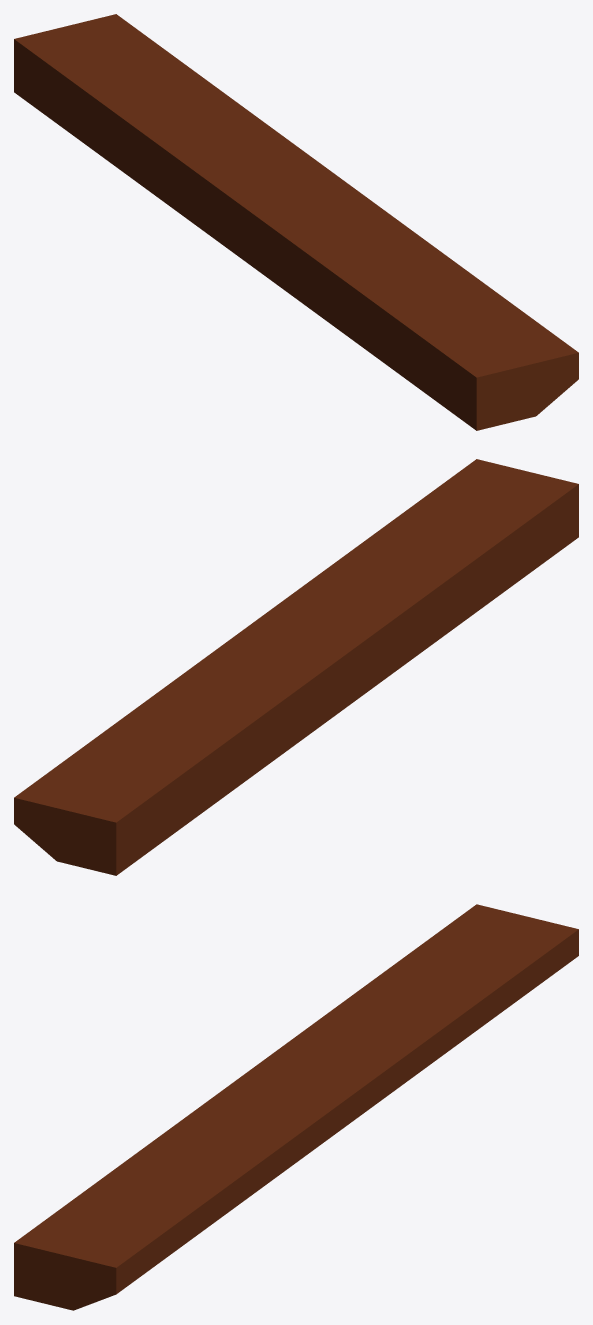
The model's file is ShelfLarge.fbx.
The picture shows the model from 3 angles, top to bottom: view 1: azimuth 30°, elevation 25°; view 2: azimuth 150°, elevation 25°; view 3: azimuth 330°, elevation 25°; orthographic projection.
Parts seen in each view (by area): view 1: Plane.021; view 2: Plane.021; view 3: Plane.021.
Part boxes in pixels (x1=…): Plane.021: x1=14, y1=14, x2=578, y2=430; Plane.021: x1=14, y1=459, x2=578, y2=875; Plane.021: x1=14, y1=904, x2=578, y2=1310.
Size of the model in its own units: 41.31 by 20.55 by 324.
